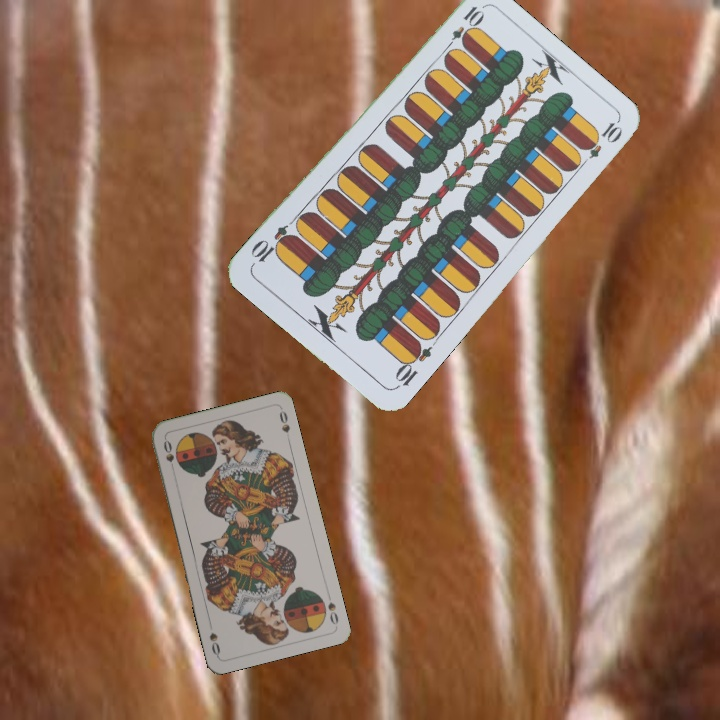E10: (390, 337, 434, 392), (440, 1, 485, 54)
SO: (159, 435, 177, 475), (323, 598, 341, 627)
